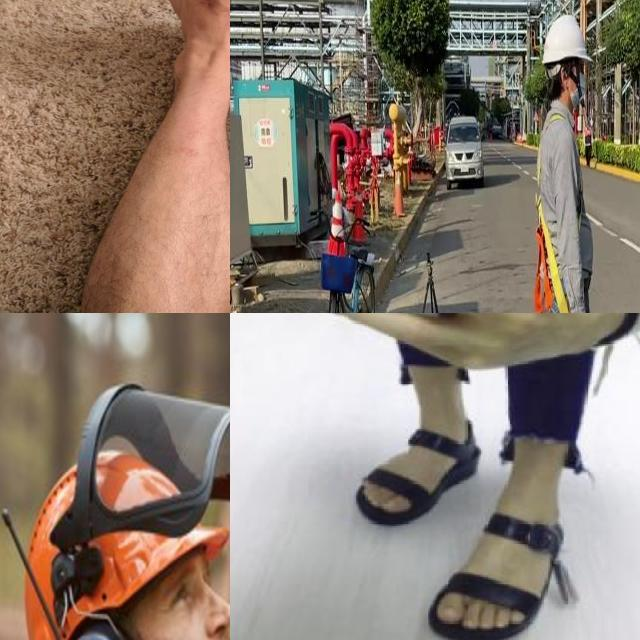Ear-protection: (26, 532, 230, 640)
Harness: (535, 203, 571, 313)
No_Glasses: (165, 538, 224, 634)
Sandals: (423, 480, 585, 640), (335, 398, 468, 537)
person: (4, 422, 230, 640)
